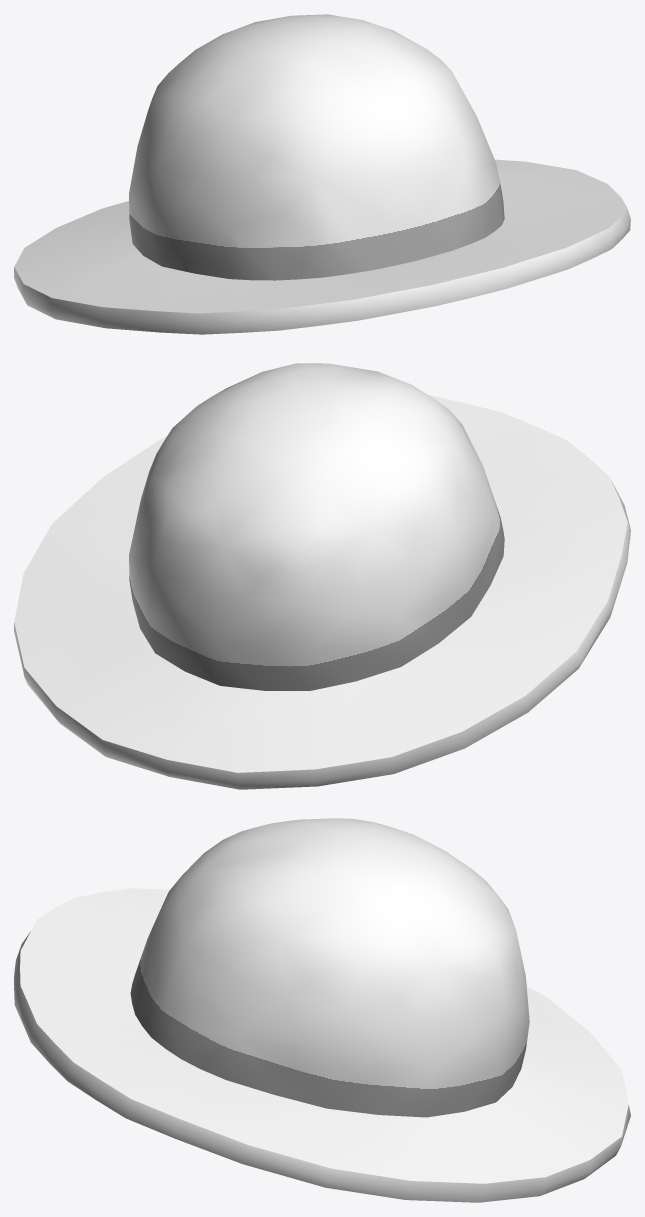
The model's file is hat_7.glb.
The picture shows the model from 3 angles, top to bottom: view 1: azimuth 30°, elevation 25°; view 2: azimuth 150°, elevation 25°; view 3: azimuth 270°, elevation 25°; orthographic projection.
Parts seen in each view (by area): view 1: finalhat1; view 2: finalhat1; view 3: finalhat1.
Boxes of the visible parts, box(x1,y1,x2,y2) form: finalhat1: box(14, 14, 630, 334); finalhat1: box(14, 363, 630, 789); finalhat1: box(14, 818, 630, 1202).
Size of the model in its own units: 104 by 52.94 by 104.
1 material, 1 textured.
